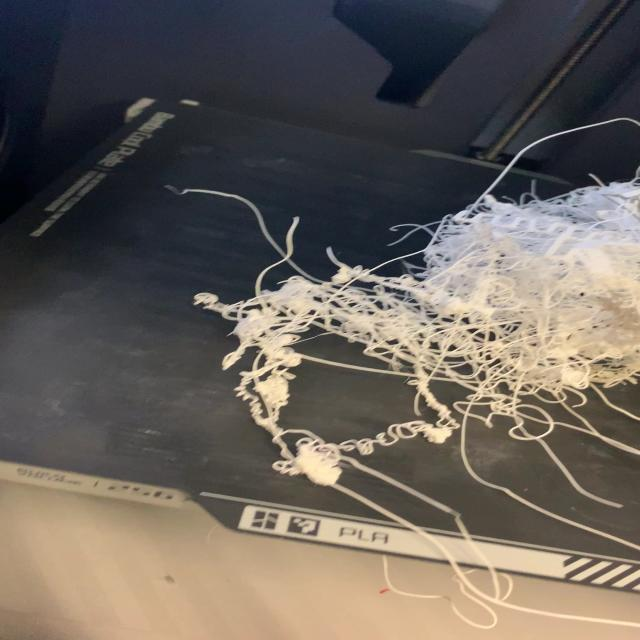spaghetti: (162, 122, 637, 627)
